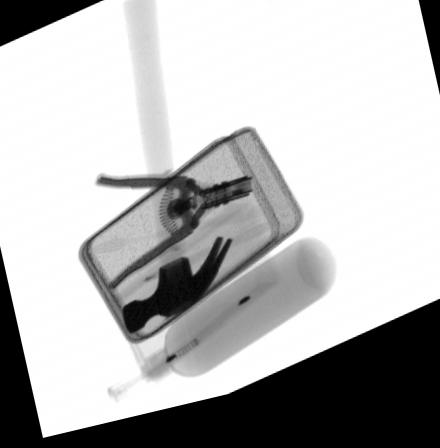Hammer: (121, 0, 231, 341)
Pliers: (93, 178, 252, 297)
